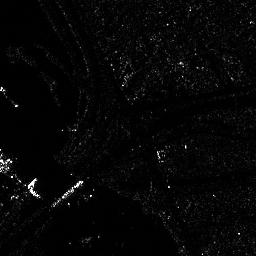ship: (49, 179, 85, 208)
